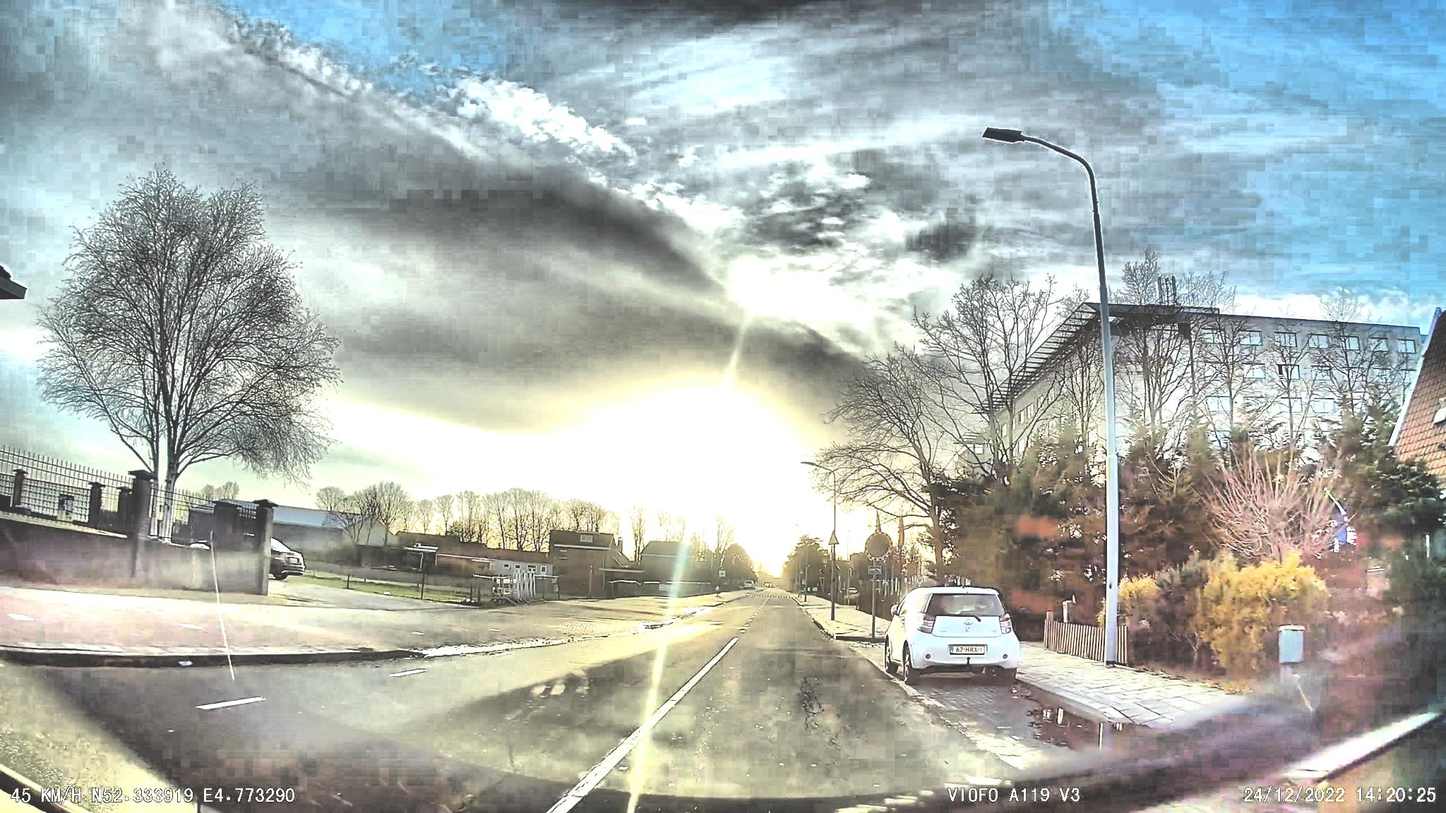Roads: (0, 587, 1003, 813)
